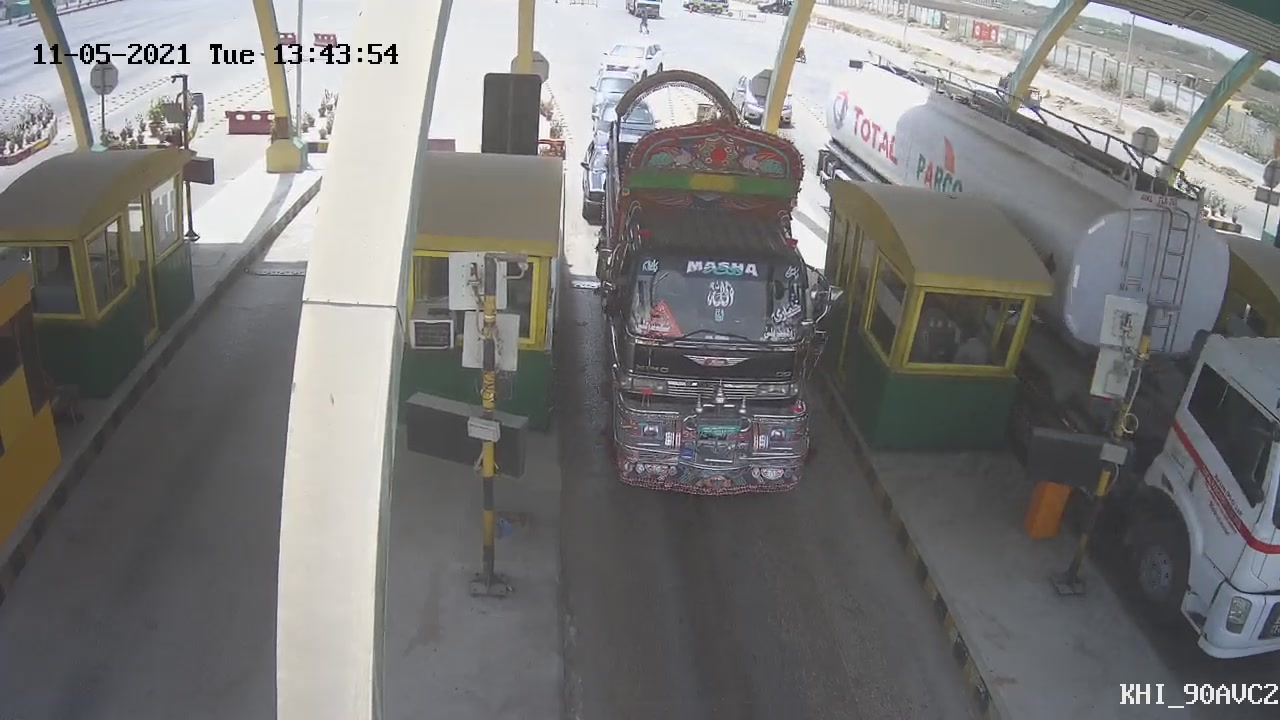F5: (600, 70, 839, 517)
